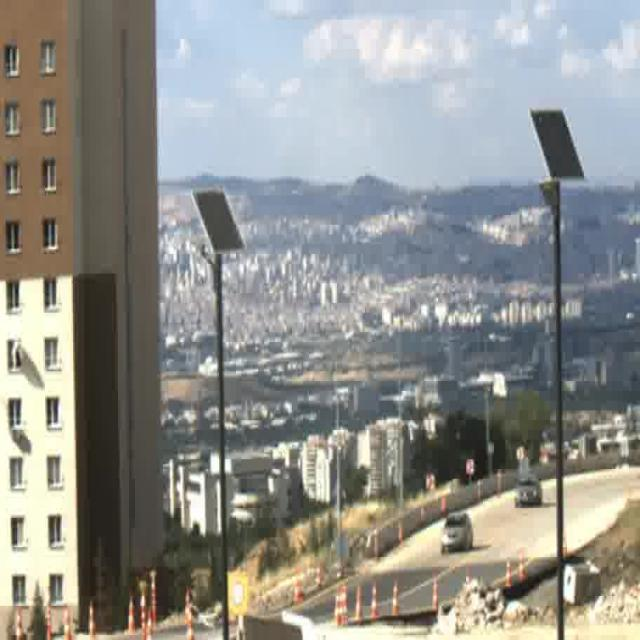Car: (439, 514, 473, 555), (514, 471, 542, 509)
